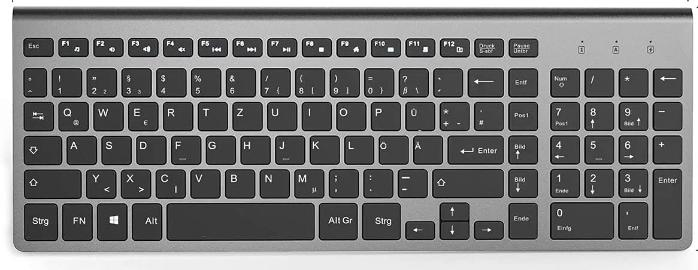0: (362, 65, 393, 96)
1: (49, 65, 80, 96)
2: (84, 65, 115, 95)
3: (119, 65, 151, 96)
4: (154, 65, 185, 95)
5: (189, 65, 220, 96)
6: (224, 65, 255, 96)
7: (258, 65, 289, 96)
8: (293, 65, 323, 96)
9: (327, 65, 358, 96)
a: (64, 133, 95, 163)
accent: (431, 65, 461, 95)
ae: (411, 133, 442, 163)
alt-left: (131, 200, 162, 240)
altgr-right: (316, 199, 357, 239)
b: (222, 166, 254, 197)
c: (153, 166, 185, 197)
caret: (21, 65, 45, 95)
comma: (327, 166, 358, 197)
d: (134, 133, 165, 164)
del: (466, 65, 503, 95)
e: (125, 99, 156, 129)
enter: (445, 132, 503, 163)
f: (169, 133, 200, 163)
g: (204, 133, 234, 164)
h: (238, 134, 269, 163)
hash: (472, 99, 503, 129)
i: (300, 99, 330, 129)
j: (273, 133, 303, 163)
k: (308, 134, 339, 163)
keyboard: (5, 12, 695, 256)
l: (342, 133, 373, 163)
m: (291, 166, 323, 197)
minus: (395, 167, 426, 197)
n: (257, 166, 289, 197)
o: (333, 99, 364, 130)
oe: (377, 134, 408, 164)
p: (368, 99, 399, 130)
plus: (437, 99, 468, 129)
point: (361, 166, 392, 196)
q: (55, 99, 87, 130)
r: (160, 99, 191, 129)
s: (99, 134, 130, 164)
shift-left: (21, 166, 80, 197)
shift-lock: (21, 133, 60, 163)
shift-right: (430, 166, 503, 197)
space: (166, 200, 315, 240)
ss: (396, 65, 427, 96)
strg-left: (21, 200, 57, 240)
strg-right: (360, 200, 401, 239)
t: (196, 99, 226, 130)
tab: (21, 99, 53, 129)
u: (265, 99, 295, 130)
ue: (402, 99, 433, 129)
v: (188, 167, 219, 197)
w: (90, 99, 122, 129)
x: (118, 166, 150, 197)
y: (84, 167, 115, 197)
z: (230, 99, 261, 130)
